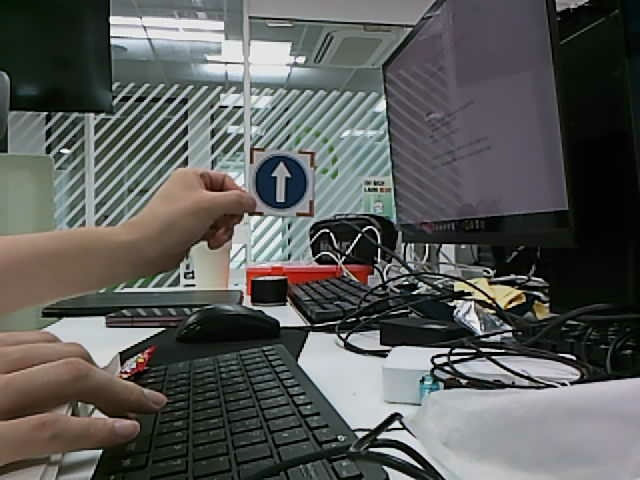go: (253, 153, 308, 211)
